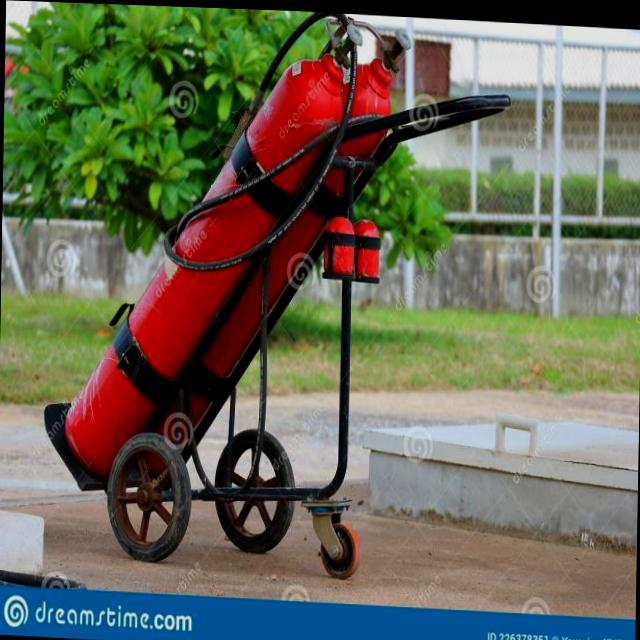FireExtinguisher: (106, 3, 415, 495), (58, 2, 367, 493)
